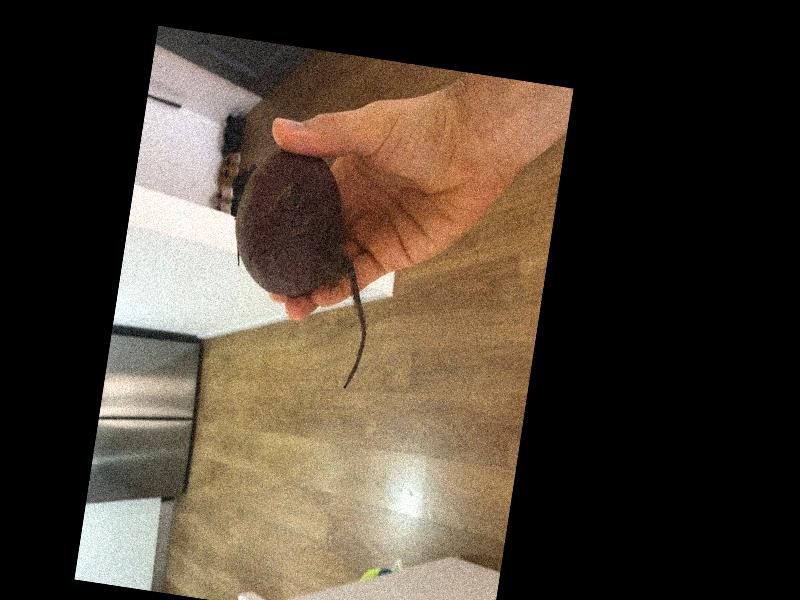Beet: (206, 143, 391, 390)
